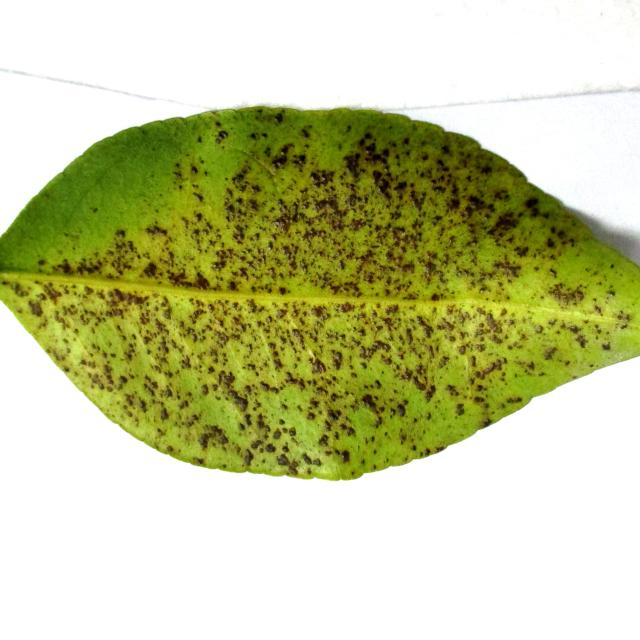melanose: (0, 107, 640, 480)
